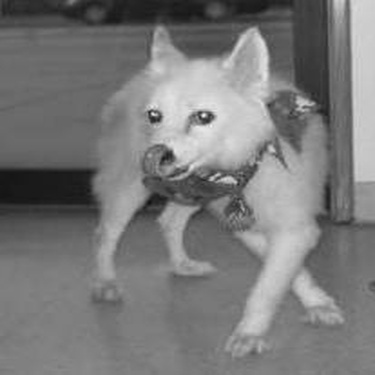dog: (84, 20, 346, 358)
